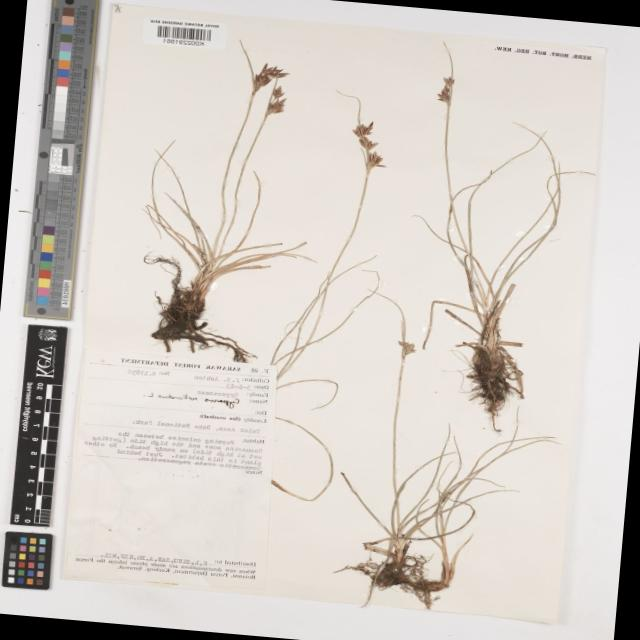cyperus: (232, 56, 306, 117), (344, 116, 401, 176), (432, 69, 461, 110)
